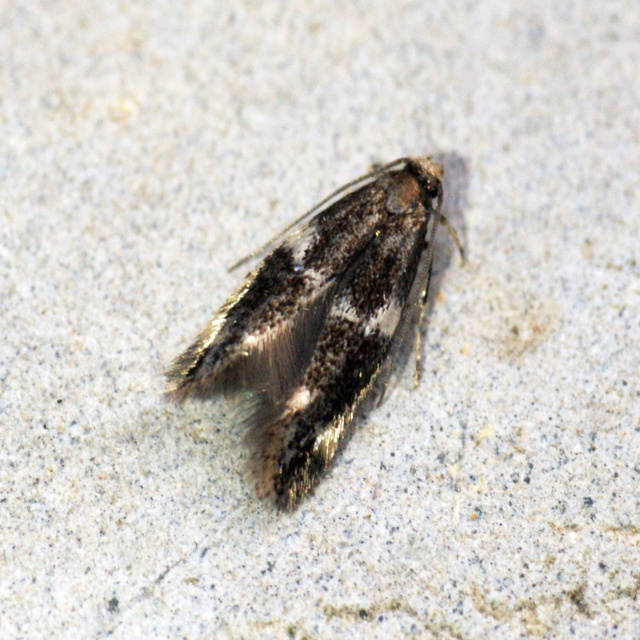Moths and butterflies: (164, 149, 467, 522)
